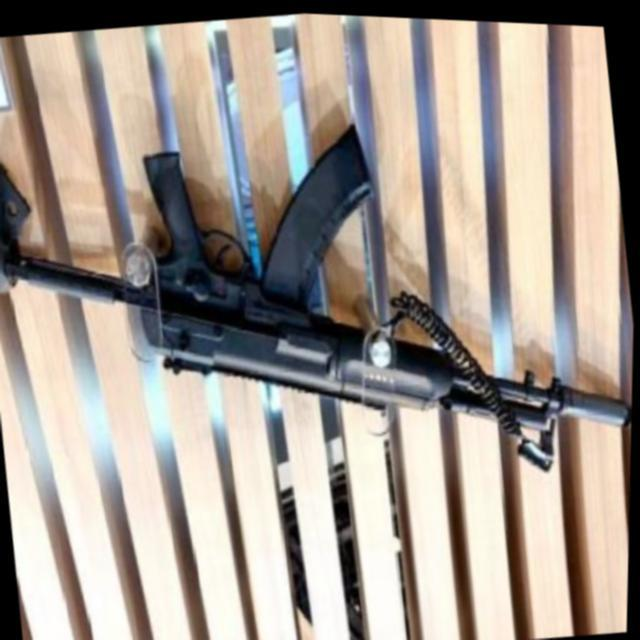weapon: (0, 76, 639, 539)
